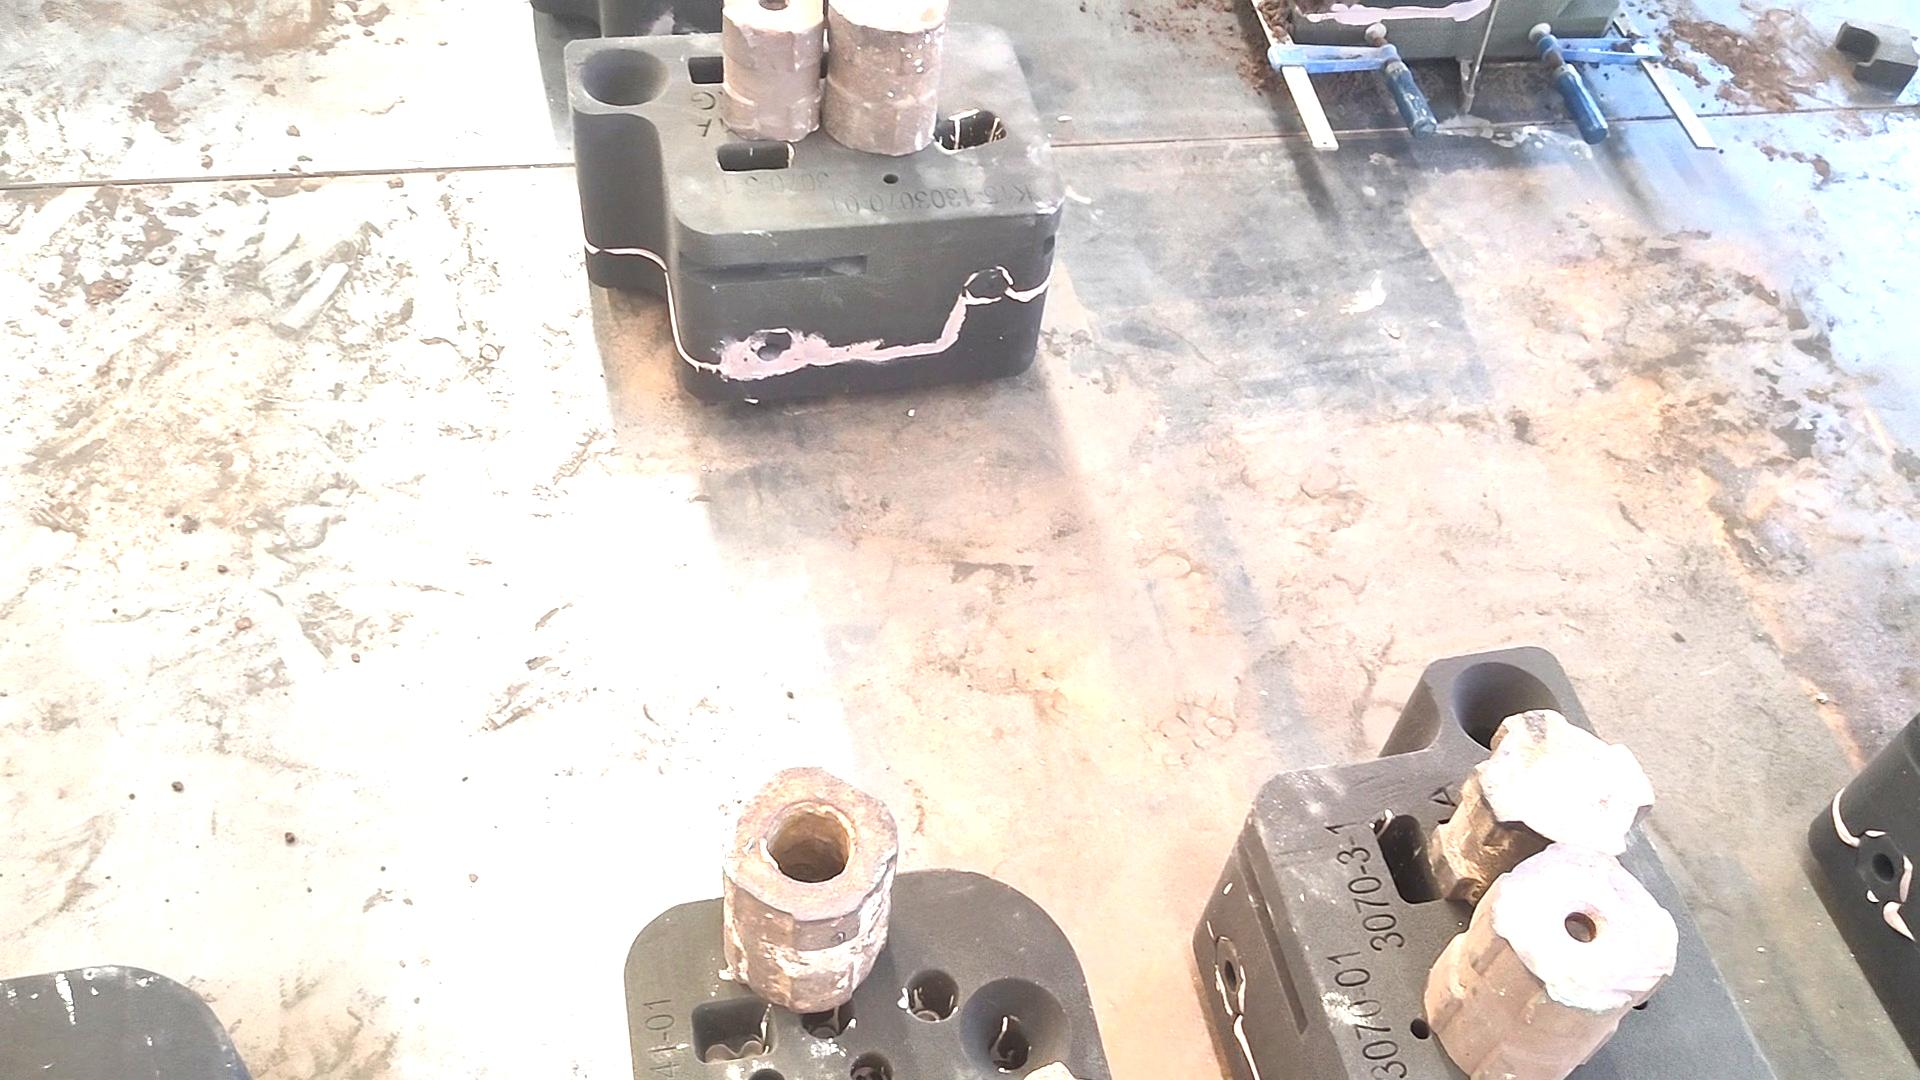pouring hole: (955, 976, 1071, 1080), (1451, 661, 1567, 756), (578, 47, 671, 108)
